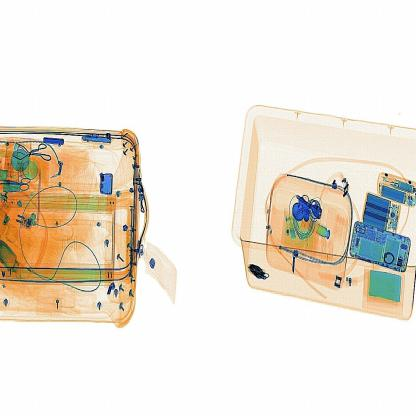scissors: (245, 262, 272, 284)
